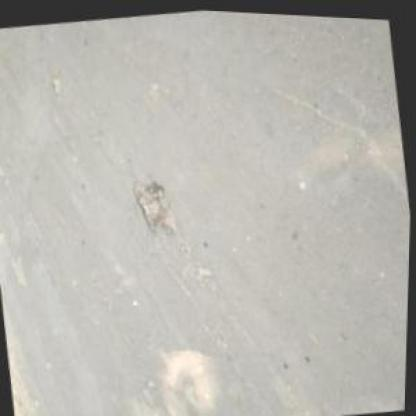pothole: (130, 168, 184, 236), (8, 249, 30, 290), (48, 71, 64, 94)
